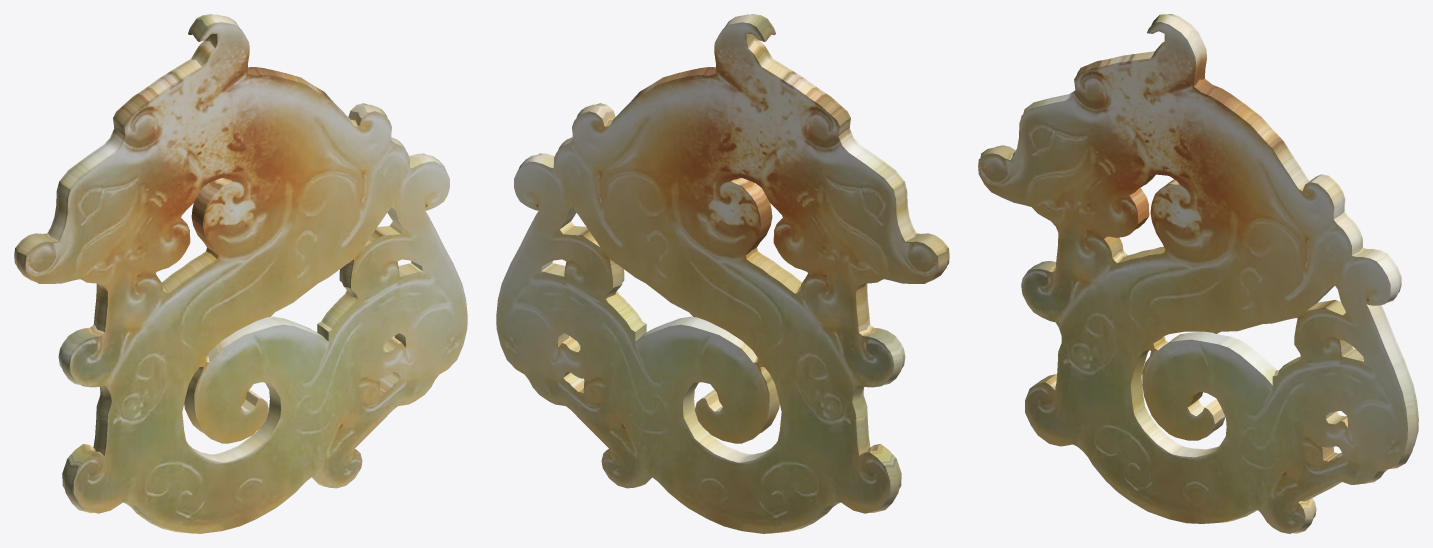
The picture shows the model from 3 angles, left to right: view 1: azimuth 30°, elevation 25°; view 2: azimuth 150°, elevation 25°; view 3: azimuth 330°, elevation 25°; orthographic projection. The views are drawn at different scales.
Visible parts, largest first — view 1: YP3_4; view 2: YP3_4; view 3: YP3_4.
Boxes of the visible parts, box(x1,y1,x2,y2) form: YP3_4: box(14, 14, 467, 533); YP3_4: box(496, 14, 949, 533); YP3_4: box(978, 14, 1418, 533).
Size of the model in its own units: 6.01 by 6.61 by 0.2611.
1 material, 1 textured.
